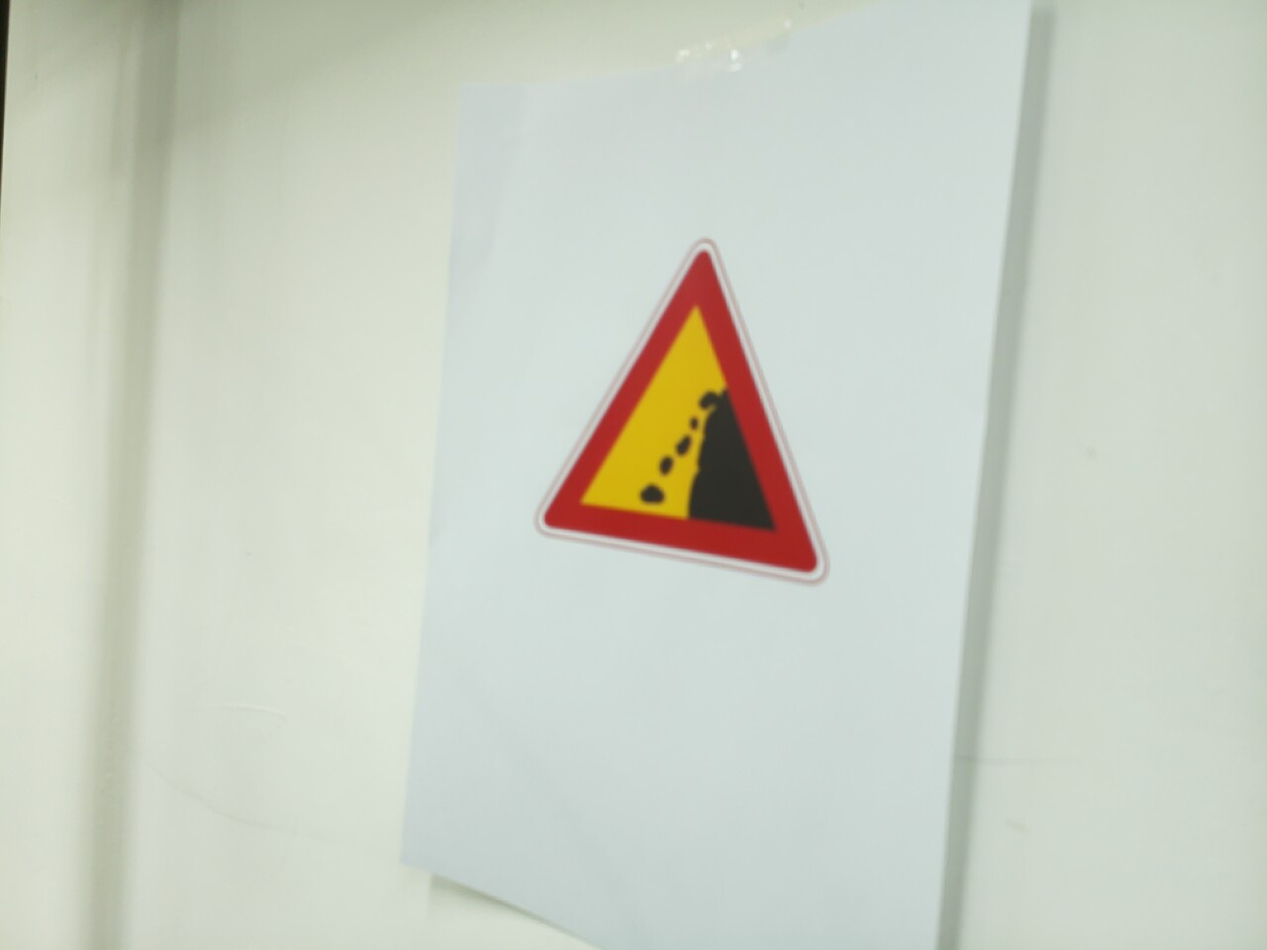falling_rocks: (536, 240, 826, 583)
